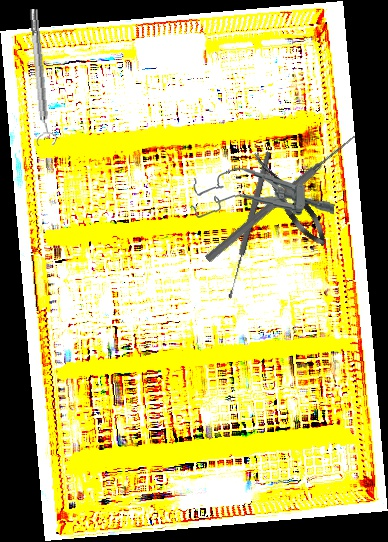Fixation Ring: (23, 7, 58, 147)
Micro Scissor: (245, 145, 334, 252)
Pusher: (203, 131, 359, 265)
Speculum: (190, 165, 337, 225)
Surgical Spoon: (225, 150, 273, 300)
